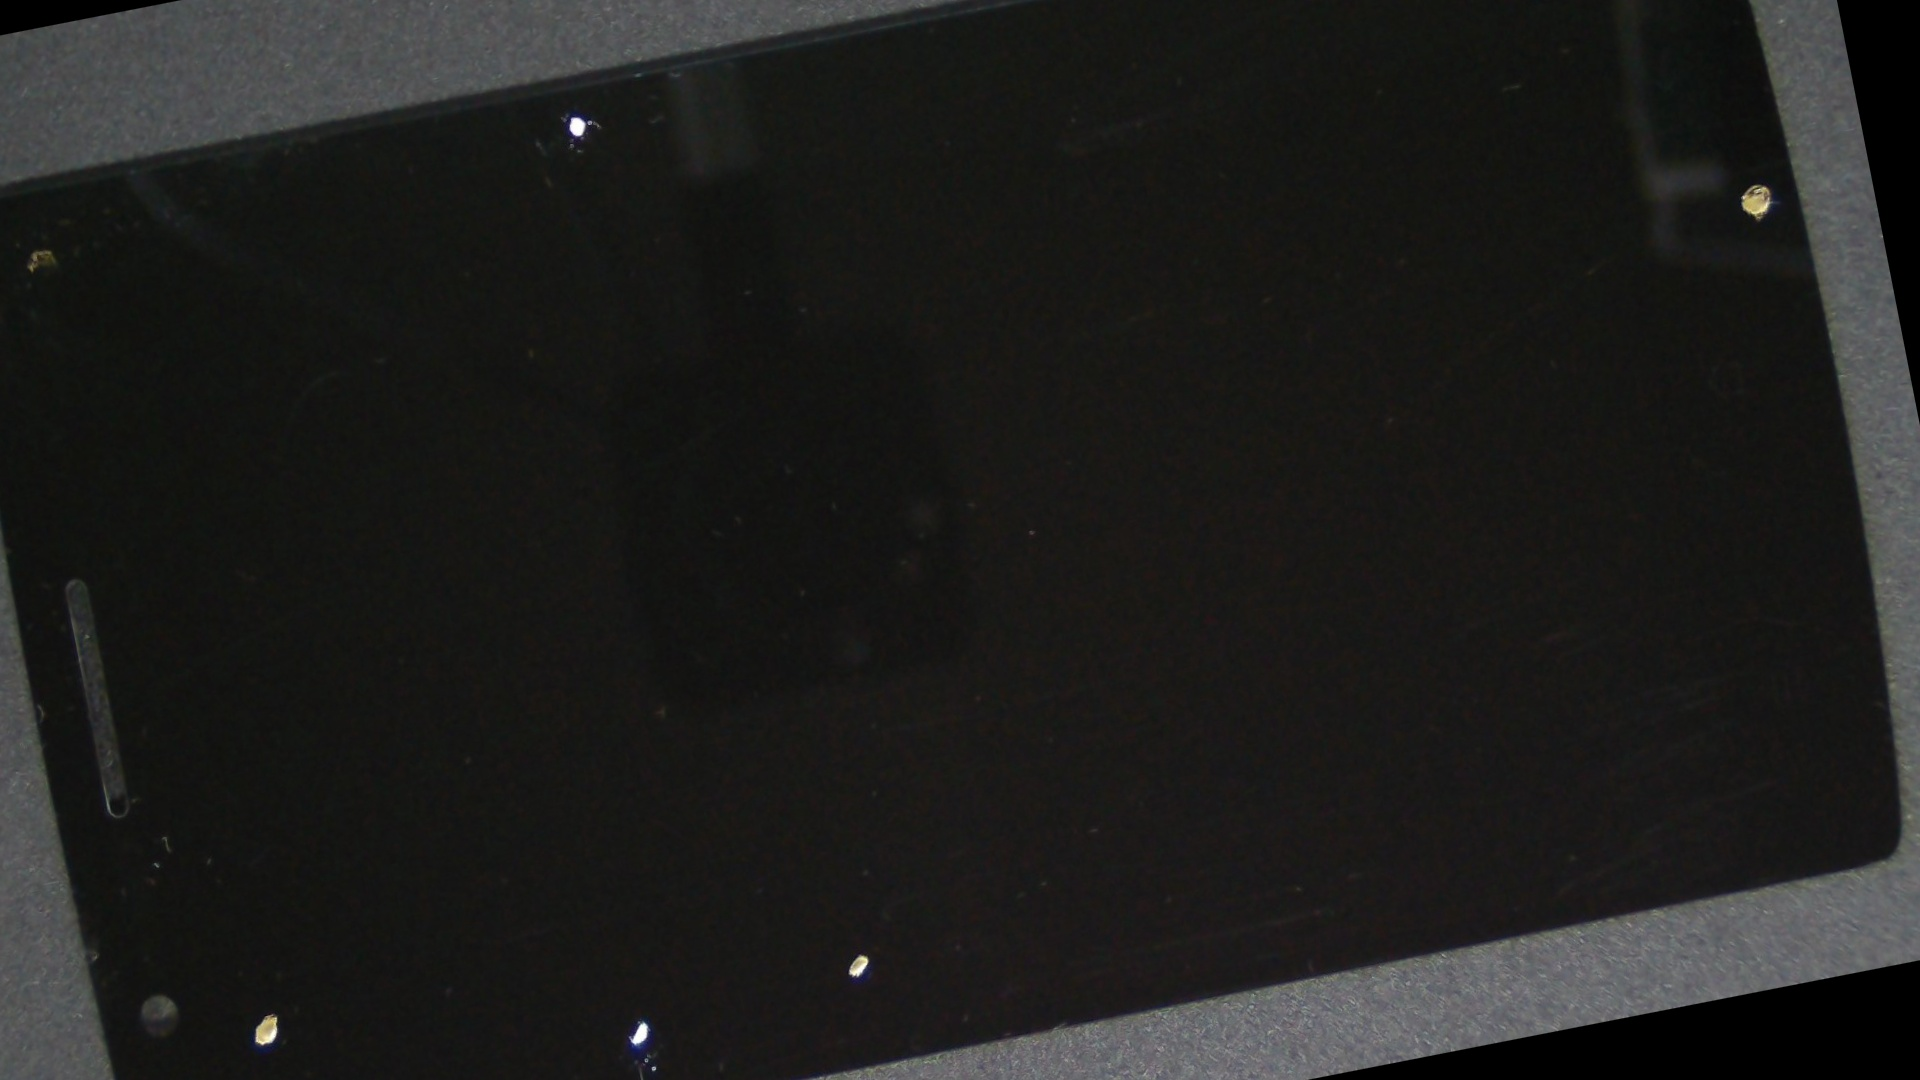oil: (323, 345, 1335, 1080), (769, 0, 1915, 605), (211, 423, 994, 1080), (218, 438, 1004, 1080), (219, 444, 1004, 1080), (28, 488, 465, 1080), (175, 0, 952, 277)
